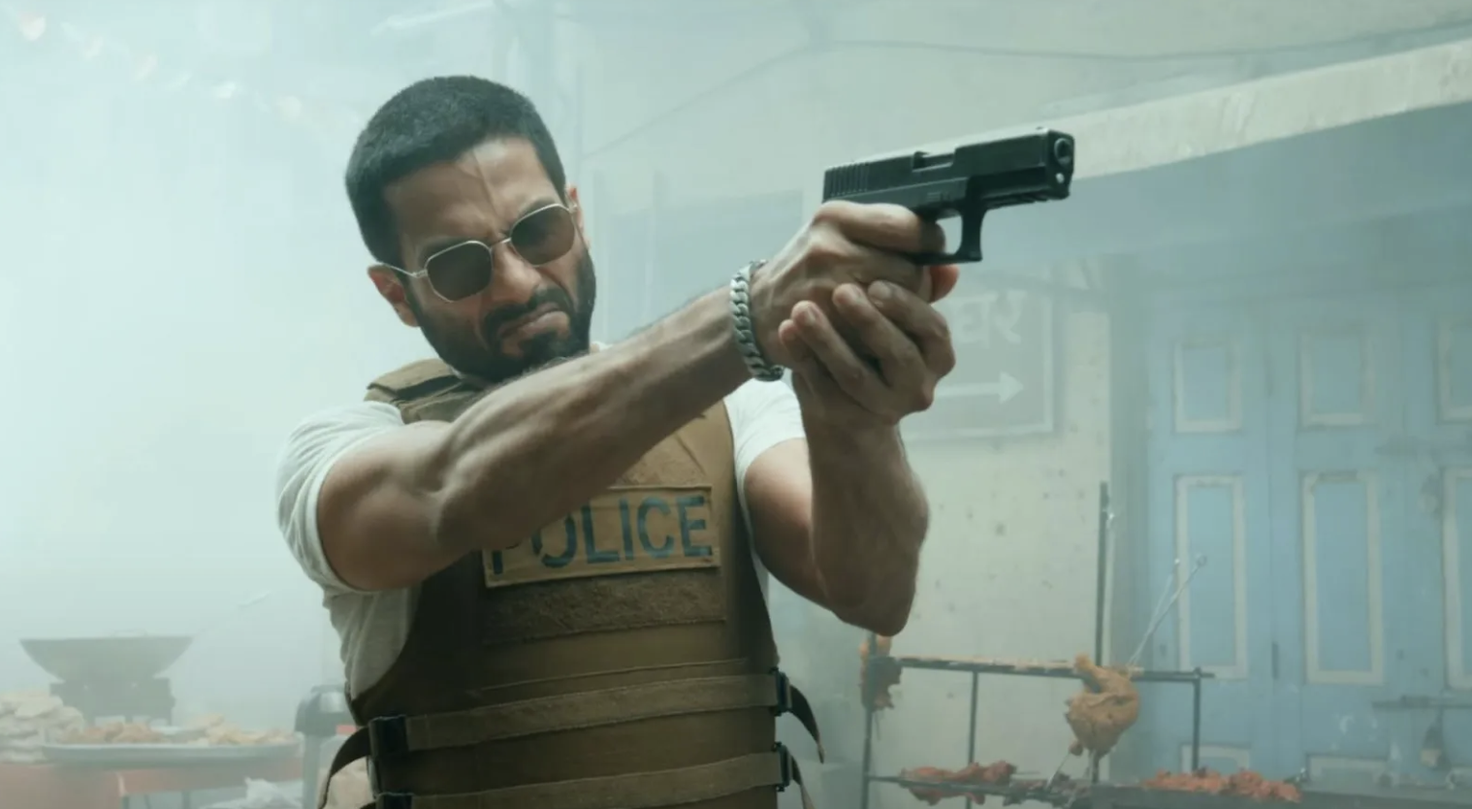gun_025: (790, 111, 1087, 279)
